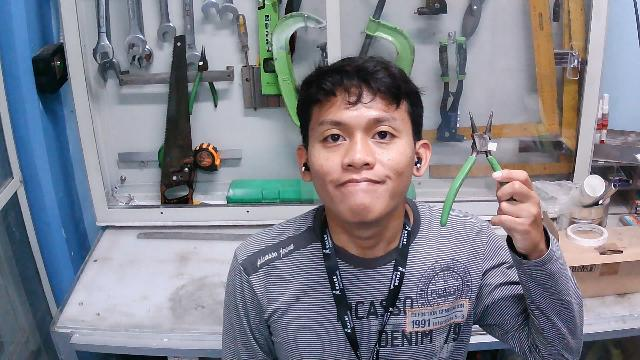tang_cucut_lancip_1: (436, 99, 531, 234)
